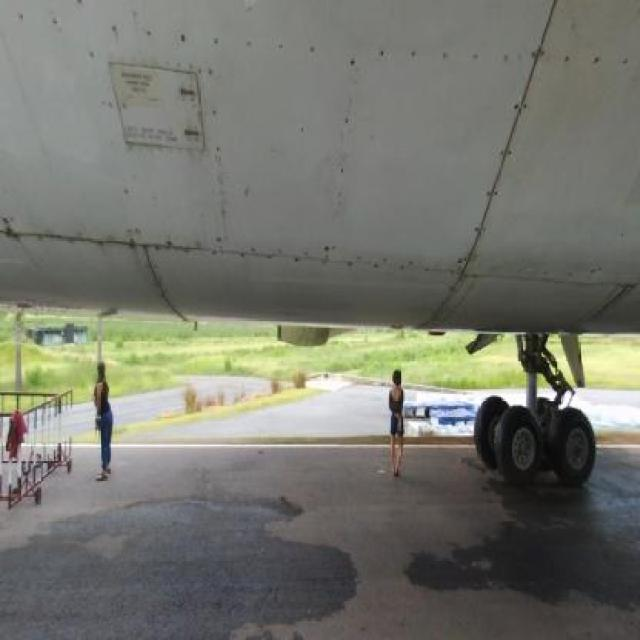Missing-Rivet: (84, 10, 538, 79), (466, 11, 577, 274), (187, 222, 462, 295), (324, 38, 359, 271)
Rust: (11, 215, 171, 298)
Scartch: (182, 79, 208, 158), (210, 156, 233, 232)
